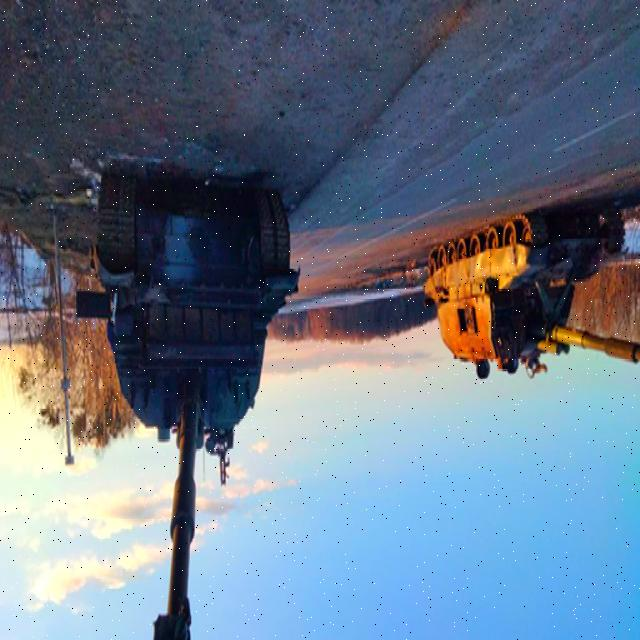ART: (76, 178, 302, 638), (421, 214, 640, 382)
